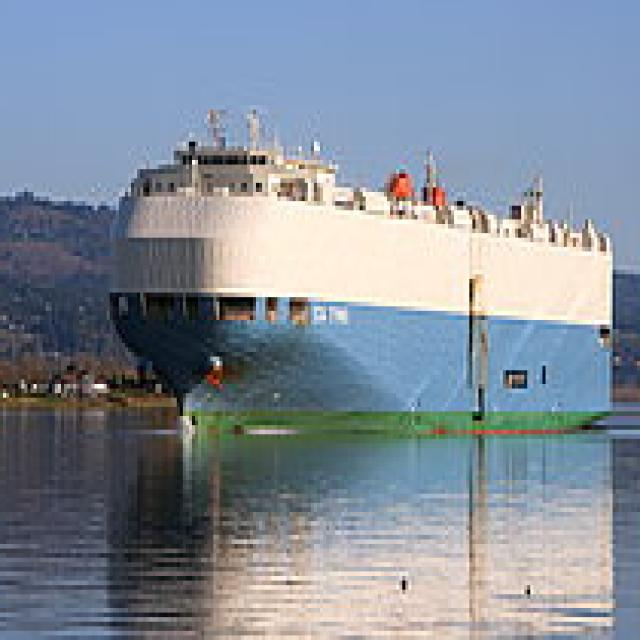Carrier: (104, 96, 618, 439)
